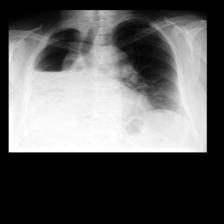tuberculosis: (18, 17, 185, 150)
